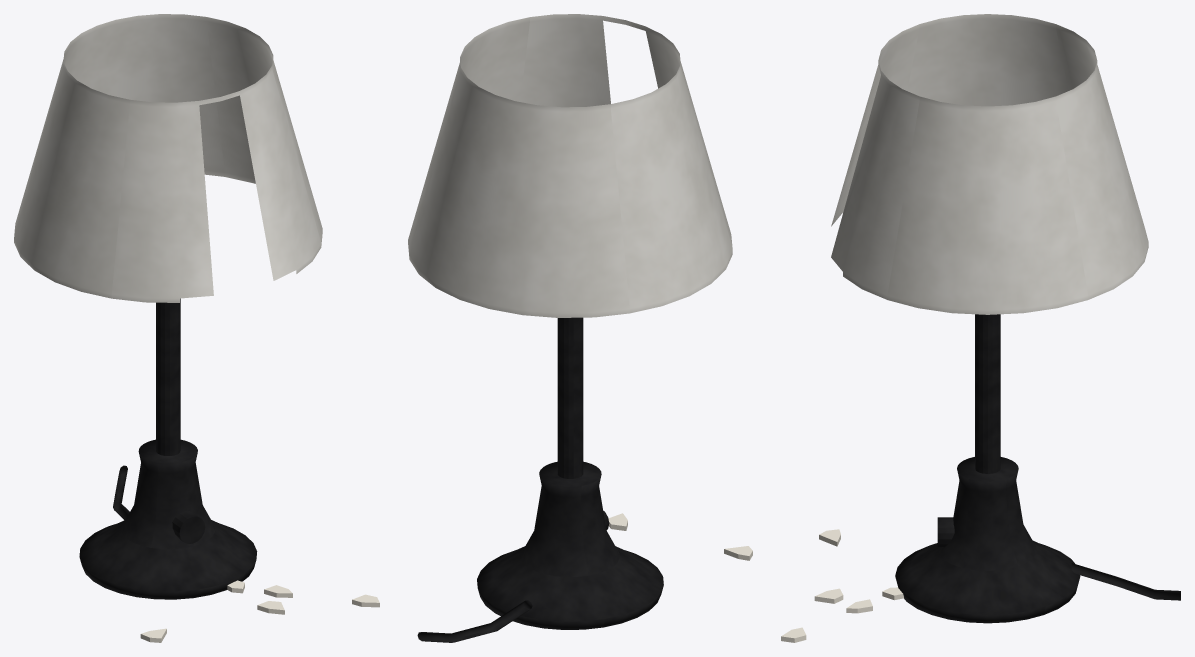
File: PRP_TableLamp_Broken.fbx
The picture shows the model from 3 angles, left to right: view 1: azimuth 30°, elevation 25°; view 2: azimuth 150°, elevation 25°; view 3: azimuth 270°, elevation 25°; orthographic projection. The views are drawn at different scales.
Visible parts, largest first — view 1: Lamp_Shade, Lamp_Base, Lamp_Switch; view 2: Lamp_Shade, Lamp_Base, Lamp_Cord; view 3: Lamp_Shade, Lamp_Base, Lamp_Cord.
Boxes of the visible parts, x1,y1,x2,y2 form: Lamp_Shade: (14, 14, 322, 302); Lamp_Base: (79, 298, 257, 599); Lamp_Switch: (172, 511, 205, 543); Lamp_Shade: (408, 14, 732, 317); Lamp_Base: (477, 317, 663, 629); Lamp_Cord: (417, 600, 532, 642); Lamp_Shade: (831, 14, 1148, 314); Lamp_Base: (895, 314, 1080, 623); Lamp_Cord: (1071, 563, 1180, 600).
Bounding box in the file's own units: 25 × 45 × 31.06.
